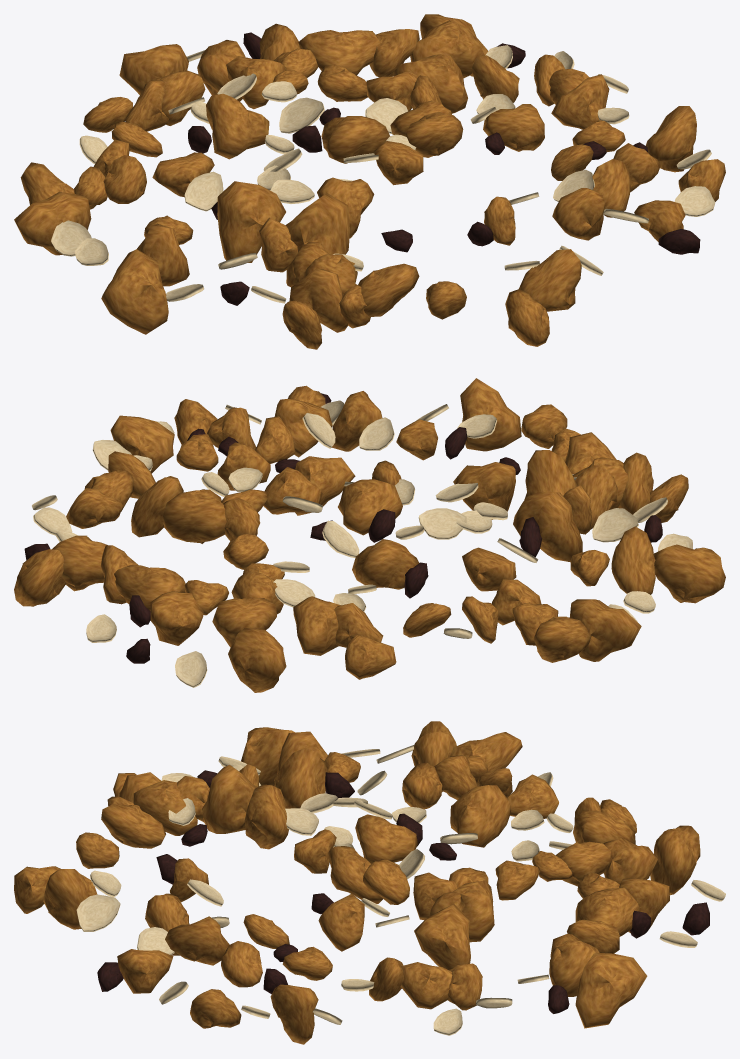
File: granola.glb
The picture shows the model from 3 angles, top to bottom: view 1: azimuth 30°, elevation 25°; view 2: azimuth 150°, elevation 25°; view 3: azimuth 270°, elevation 25°; orthographic projection. The views are drawn at different scales.
Visible parts, largest first — view 1: granola; view 2: granola; view 3: granola.
Boxes of the visible parts, x1,y1,x2,y2 form: granola: (14, 14, 725, 349); granola: (14, 378, 725, 692); granola: (14, 721, 725, 1044).
Bounding box in the file's own units: 0.946 × 0.1545 × 0.9802.
Materials: 3 (3 with a texture image).
